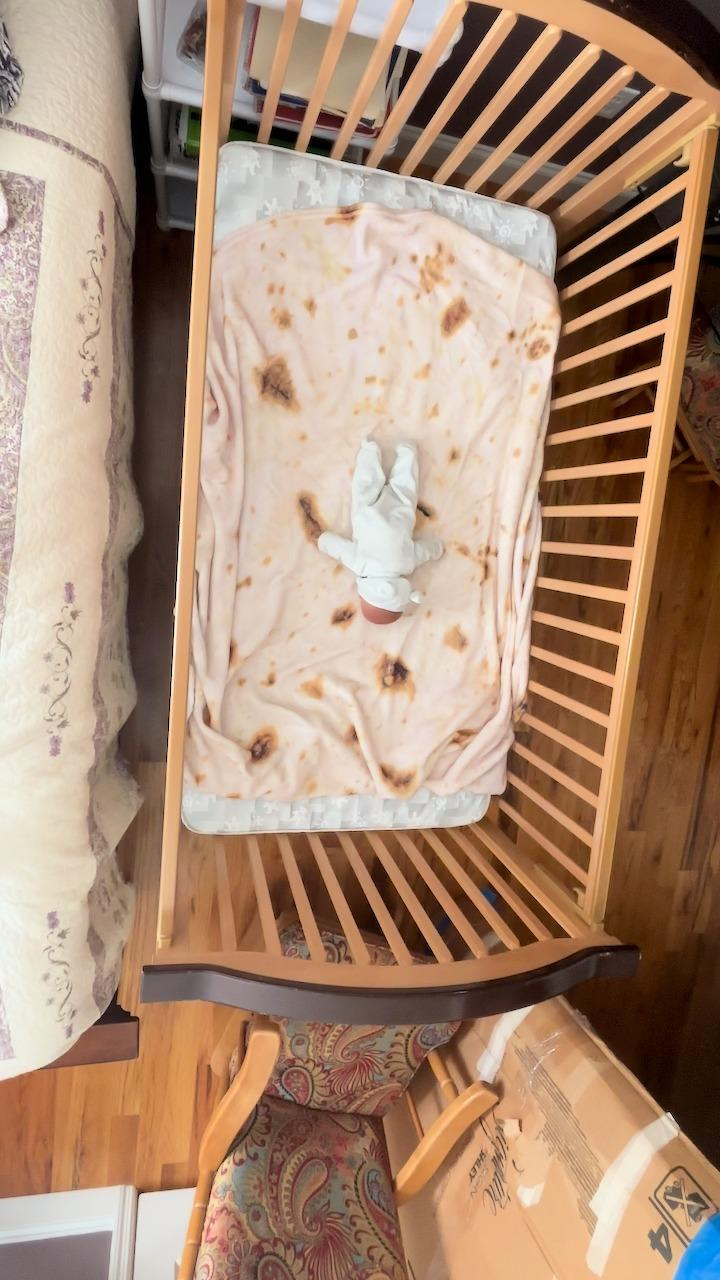baby: (324, 432, 448, 630)
